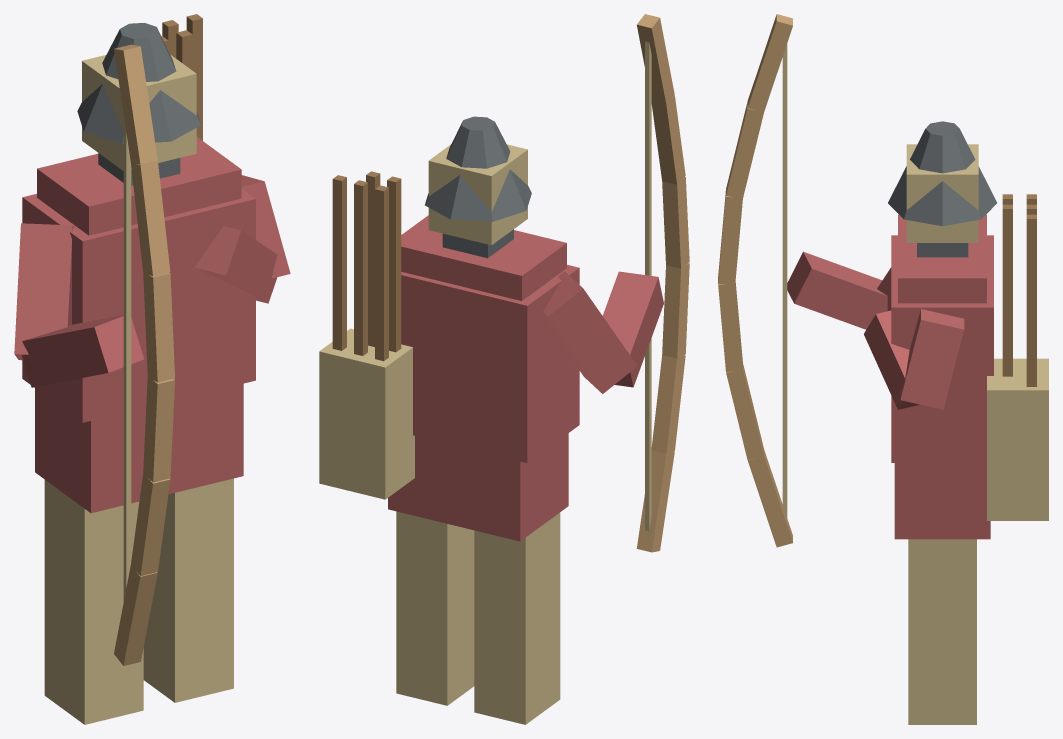
Rendered from archer-red.glb.
3 views of the same model, side by side, from view 1: azimuth 30°, elevation 25°; view 2: azimuth 150°, elevation 25°; view 3: azimuth 270°, elevation 25° (orthographic). The views are drawn at different scales.
Visible parts, largest first — view 1: archer-red; view 2: archer-red; view 3: archer-red.
Boxes of the visible parts, x1,y1,x2,y2 form: archer-red: (14,14,290,724); archer-red: (319,14,689,724); archer-red: (718,14,1048,724).
Bounding box in the file's own units: 0.8101 × 2.04 × 0.9649.
